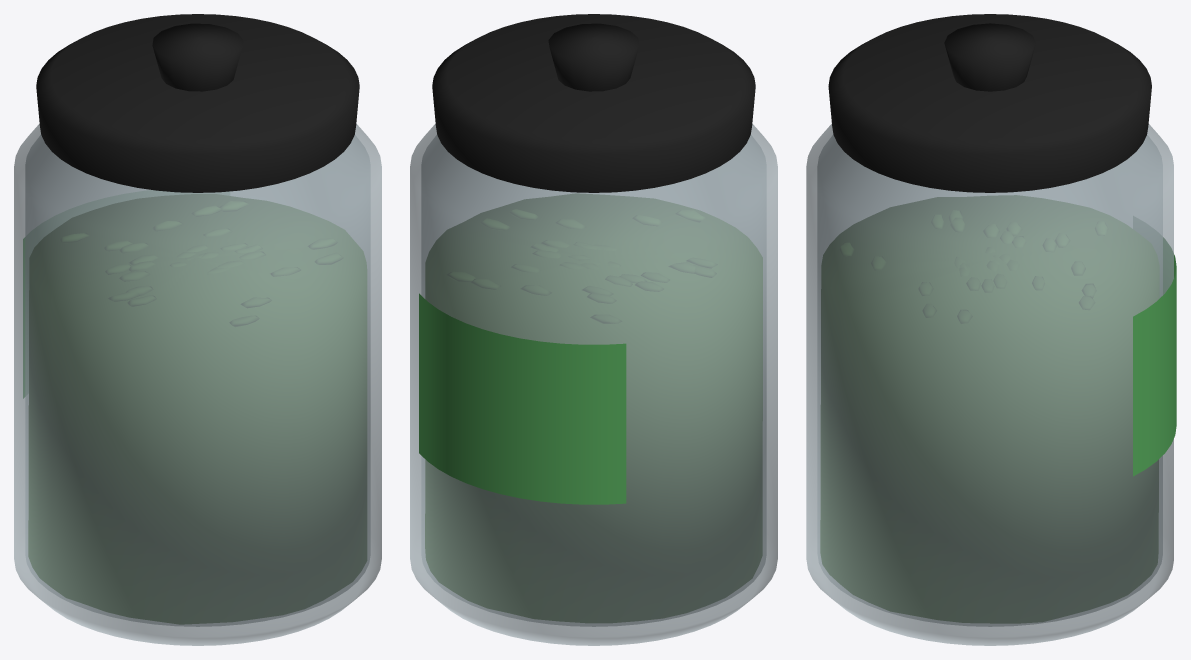
Rendered from props-teajar.glb.
3 views of the same model, side by side, from view 1: azimuth 30°, elevation 25°; view 2: azimuth 150°, elevation 25°; view 3: azimuth 270°, elevation 25° (orthographic).
Parts seen in each view (by area): view 1: TeaJar__Glass, TeaJar__Contents, TeaJar__Lid; view 2: TeaJar__Glass, TeaJar__Contents, TeaJar__Lid, TeaJar__Label; view 3: TeaJar__Glass, TeaJar__Contents, TeaJar__Lid, TeaJar__Label.
Boxes of the visible parts, x1,y1,x2,y2 form: TeaJar__Glass: (14, 124, 381, 645); TeaJar__Contents: (28, 194, 366, 624); TeaJar__Lid: (36, 14, 359, 192); TeaJar__Glass: (410, 124, 777, 645); TeaJar__Contents: (425, 193, 762, 622); TeaJar__Lid: (432, 14, 755, 192); TeaJar__Label: (419, 293, 626, 504); TeaJar__Glass: (806, 123, 1173, 645); TeaJar__Contents: (820, 195, 1159, 623); TeaJar__Lid: (828, 14, 1151, 192); TeaJar__Label: (1133, 237, 1176, 476).
Bounding box in the file's own units: 12 × 19.4 × 12.08.
